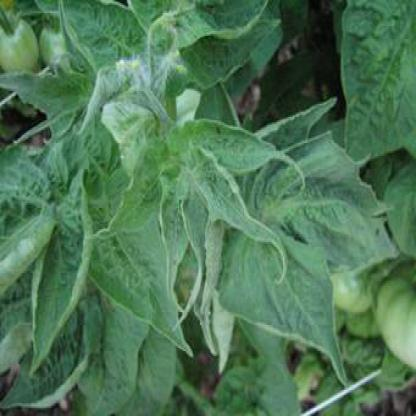Tomato leaf yellow virus: (217, 206, 354, 380), (85, 168, 197, 352), (189, 141, 287, 276), (175, 116, 302, 184)
